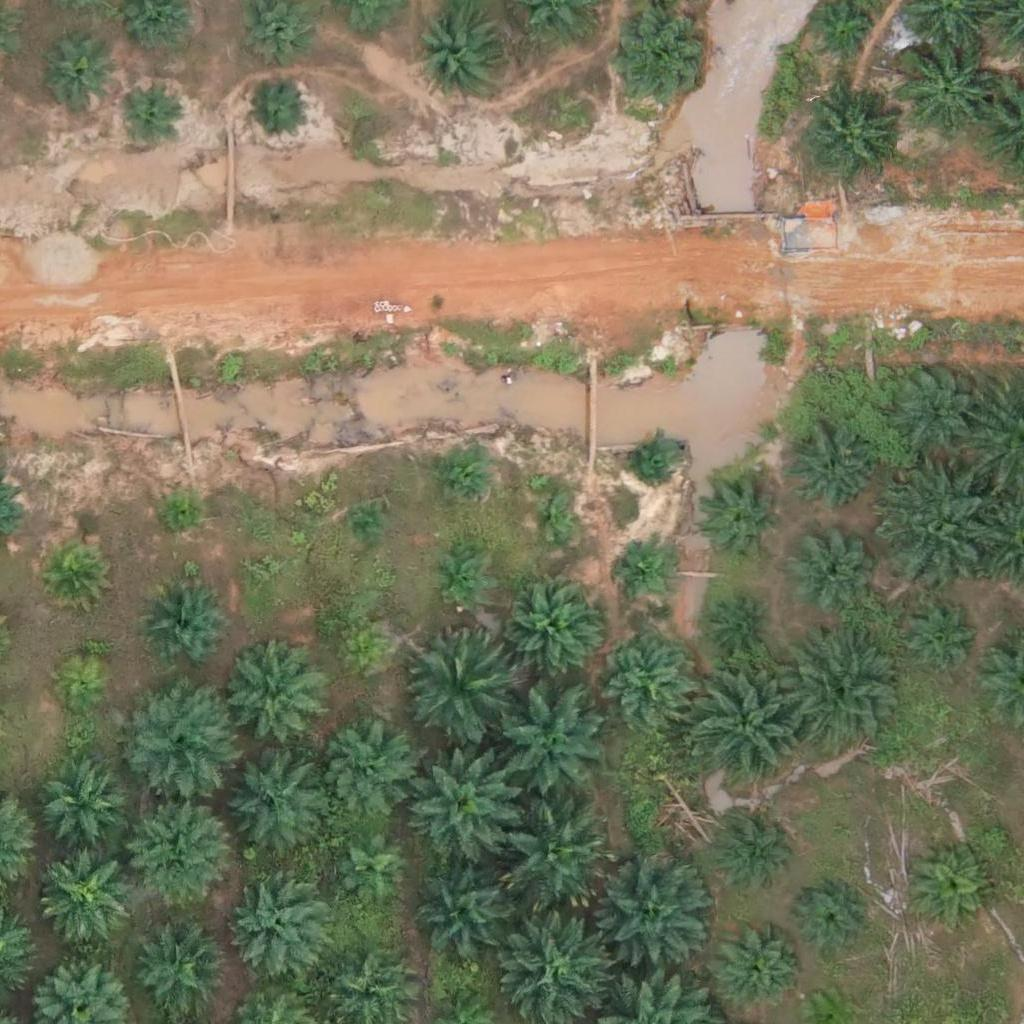Kelapa_Sawit: (787, 640, 900, 754), (692, 663, 805, 776), (491, 687, 604, 800), (400, 627, 513, 740), (405, 759, 518, 872), (593, 853, 705, 967), (121, 682, 233, 796), (879, 469, 991, 582), (502, 804, 614, 917), (881, 355, 981, 456), (411, 866, 511, 967), (228, 650, 328, 751), (126, 807, 226, 908), (801, 86, 901, 187), (609, 14, 709, 115), (507, 579, 607, 679), (322, 720, 422, 820), (229, 757, 329, 857), (222, 877, 322, 977), (33, 845, 133, 945), (894, 40, 994, 140), (141, 579, 229, 667), (134, 926, 222, 1014), (39, 760, 127, 848), (787, 426, 874, 515), (894, 596, 981, 684), (787, 525, 874, 613), (603, 629, 690, 717), (697, 473, 784, 561), (907, 846, 994, 934), (417, 8, 504, 96), (724, 932, 799, 1008), (791, 884, 866, 960), (41, 41, 116, 116), (715, 810, 790, 885), (334, 827, 409, 902), (44, 540, 107, 603), (114, 82, 177, 145), (247, 78, 309, 141), (54, 659, 104, 710), (619, 542, 669, 593), (626, 432, 676, 482), (717, 601, 767, 651), (529, 495, 579, 545), (437, 449, 487, 499), (432, 552, 482, 602), (346, 510, 384, 548), (160, 494, 197, 532), (336, 629, 373, 666), (249, 557, 274, 583)
